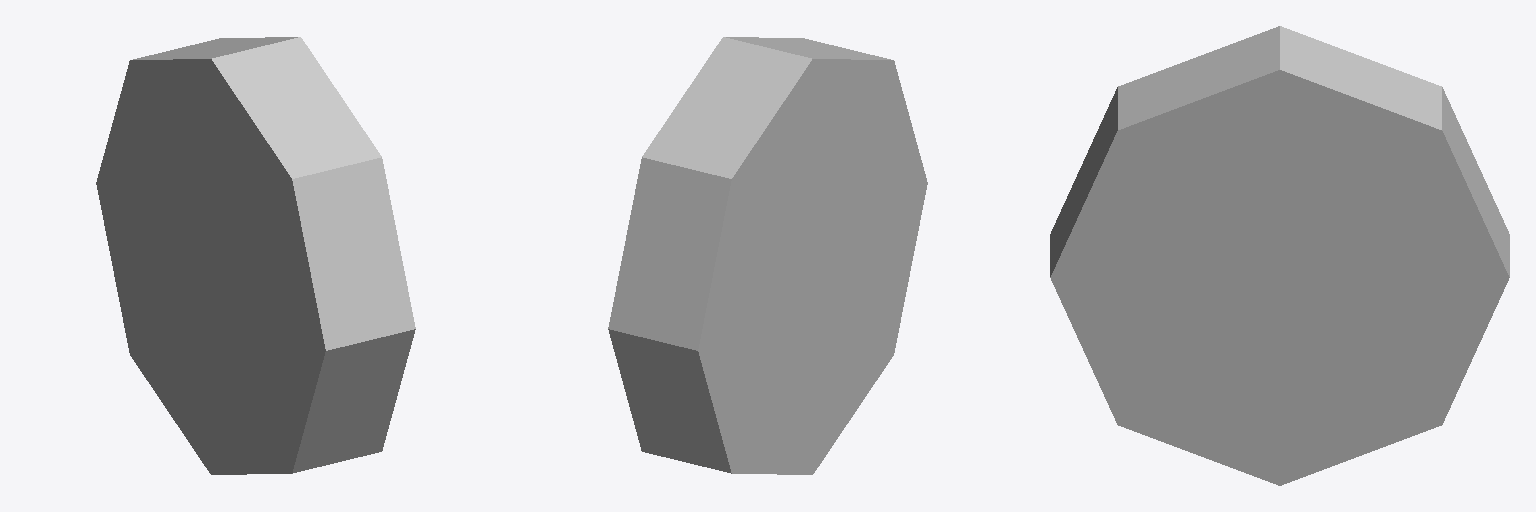
Rendered from pramwheel3.obj.
The picture shows the model from 3 angles: view 1: azimuth 30°, elevation 25°; view 2: azimuth 150°, elevation 25°; view 3: azimuth 270°, elevation 25°; orthographic projection.
Parts seen in each view (by area): view 1: Pram_wheel4; view 2: Pram_wheel4; view 3: Pram_wheel4.
Part boxes in pixels (x1,y1,x2,y2): Pram_wheel4: (96, 37, 415, 474); Pram_wheel4: (608, 37, 927, 474); Pram_wheel4: (1050, 26, 1509, 485).
Size of the model in its own units: 0.1104 by 0.4883 by 0.4883.